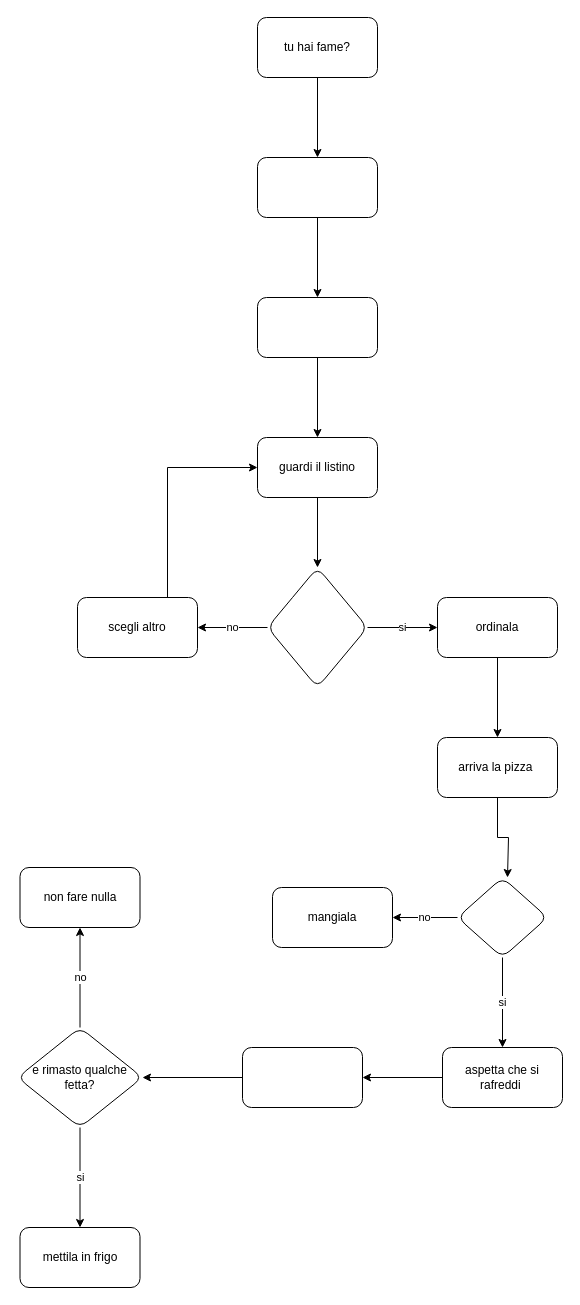
This 580x1305 diagram has some shape labels left out. Here are the shapes that lost their labels. From the top down, the centre of each, then its label:
the point at 317,187: vai sul pc
the point at 317,327: scegli una pizzeria su google
the point at 317,627: ce una pizza prosciutto e funghi?
the point at 502,917: e molto calda
the point at 302,1077: la mangi
